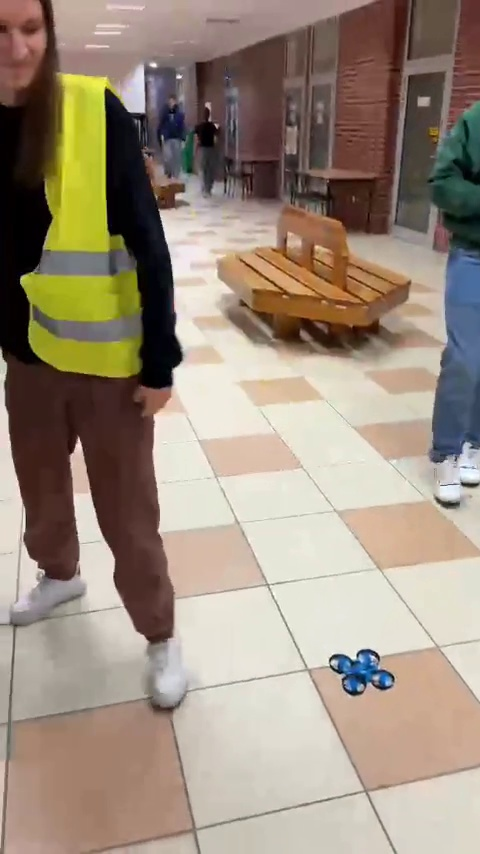drone: (331, 650, 388, 695)
no vest: (191, 98, 226, 195), (154, 87, 183, 178)
vest: (0, 3, 206, 757)
